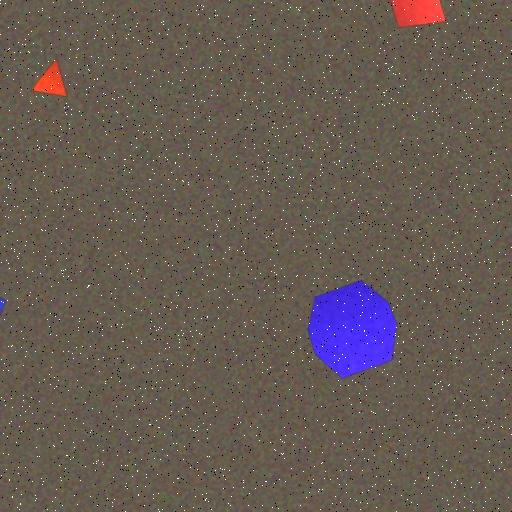RED_SQUARE: (384, 0, 447, 29)
